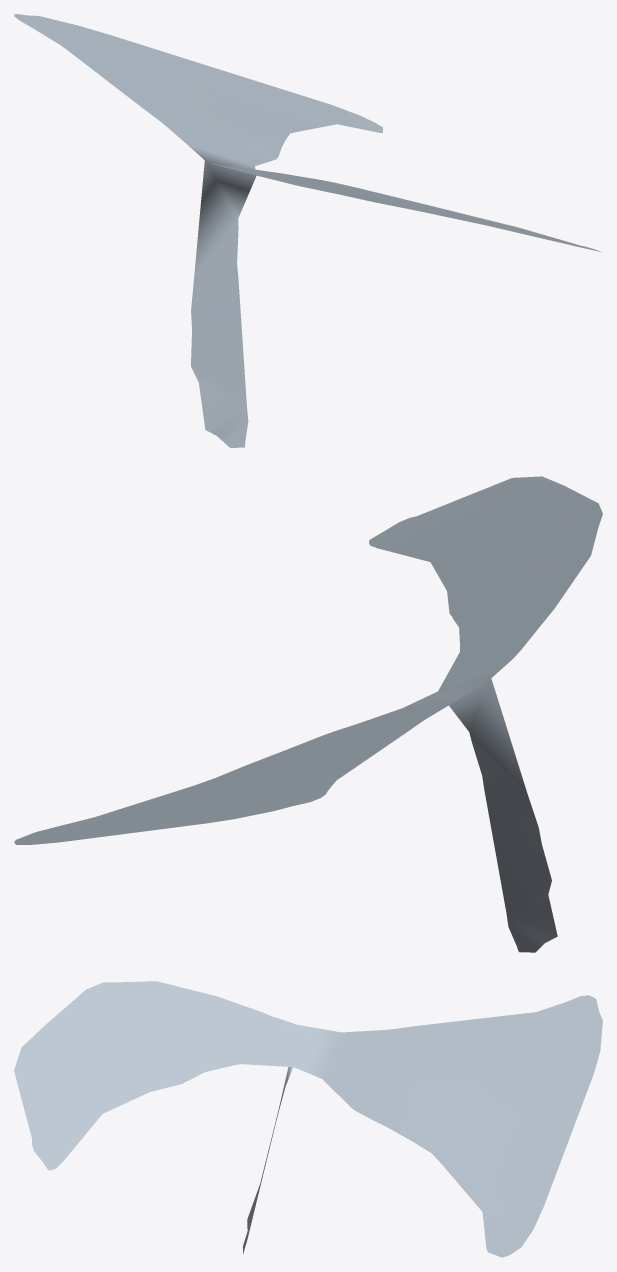
The model's file is triradiate-cartilage-l.glb.
3 renders of one model, top to bottom at view 1: azimuth 30°, elevation 25°; view 2: azimuth 150°, elevation 25°; view 3: azimuth 270°, elevation 25°, orthographic. The views are drawn at different scales.
Visible parts, largest first — view 1: Triradiate cartilage.l; view 2: Triradiate cartilage.l; view 3: Triradiate cartilage.l.
Part boxes in pixels (bbox=[...]): Triradiate cartilage.l: bbox=[14, 14, 601, 447]; Triradiate cartilage.l: bbox=[14, 476, 602, 952]; Triradiate cartilage.l: bbox=[14, 981, 602, 1257].
Size of the model in its own units: 0.038 by 0.0354 by 0.0685.
